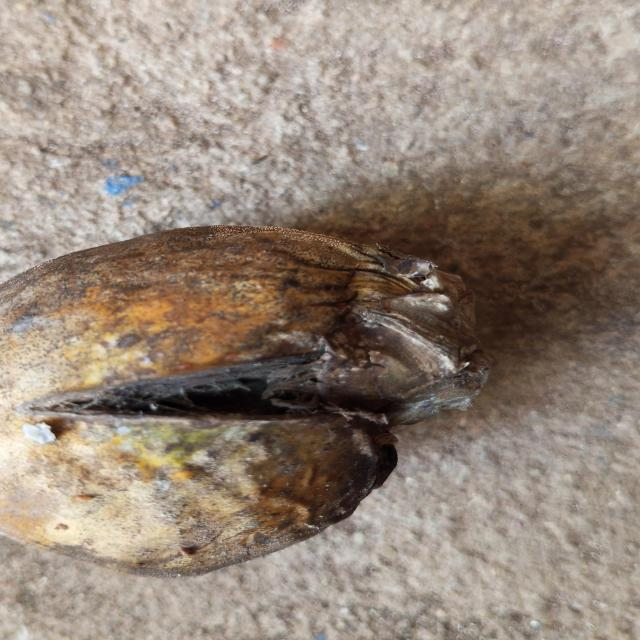damaged: (0, 226, 486, 577)
